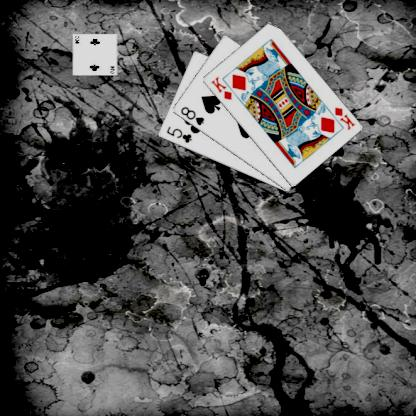5C: (163, 124, 193, 144)
8S: (177, 104, 206, 127)
KD: (208, 73, 233, 102), (331, 104, 356, 132)
